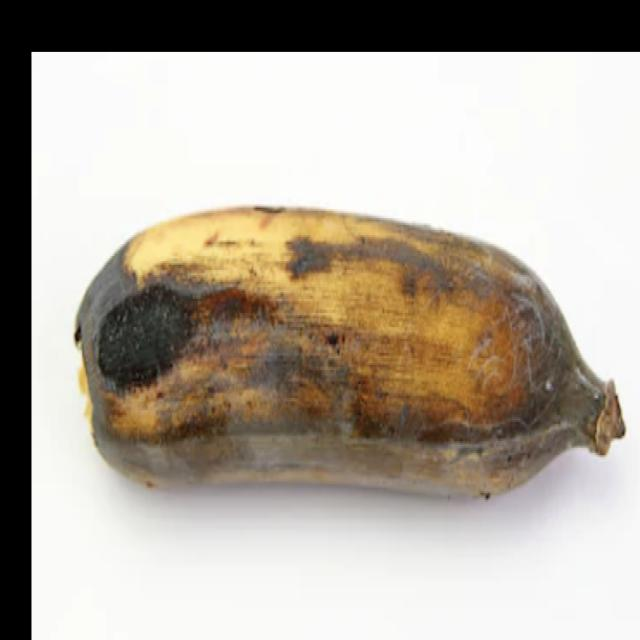Rotten: (70, 182, 626, 530)
